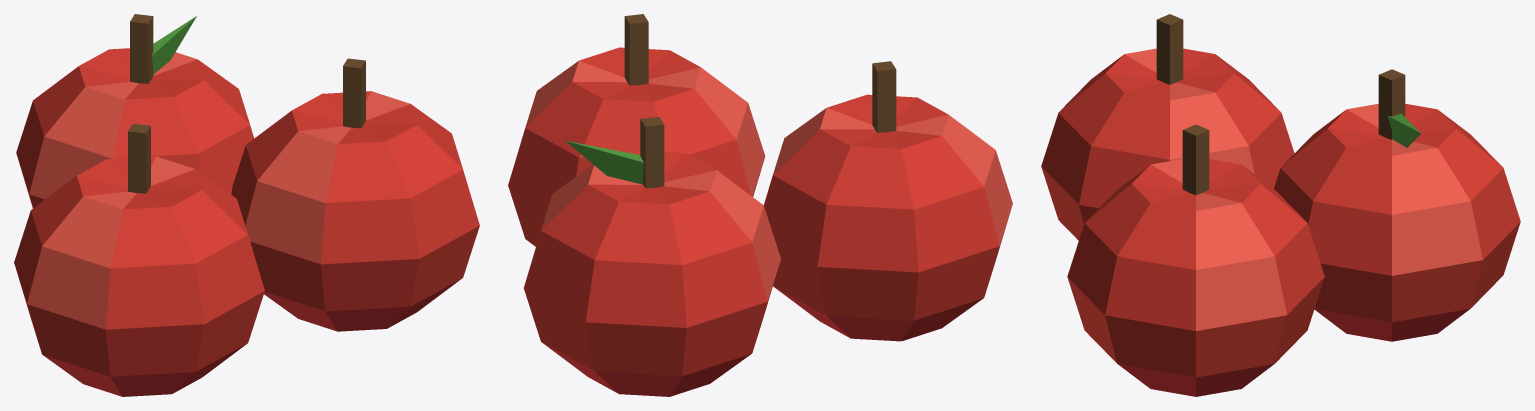
File: apple-crop.glb
3 views of the same model, side by side, from view 1: azimuth 30°, elevation 25°; view 2: azimuth 150°, elevation 25°; view 3: azimuth 270°, elevation 25° (orthographic). The views are drawn at different scales.
Parts seen in each view (by area): view 1: apple-crop; view 2: apple-crop; view 3: apple-crop.
Part boxes in pixels (bbox=[...]): apple-crop: bbox=[14, 14, 479, 396]; apple-crop: bbox=[508, 14, 1012, 396]; apple-crop: bbox=[1041, 14, 1520, 396].
Size of the model in its own units: 0.3972 by 0.2147 by 0.3672.
Materials: 1 (1 with a texture image).
